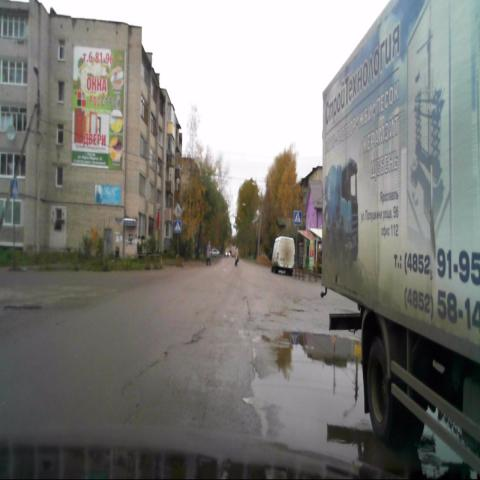5_19_1: (11, 178, 18, 198), (294, 210, 302, 225), (174, 221, 182, 234)
